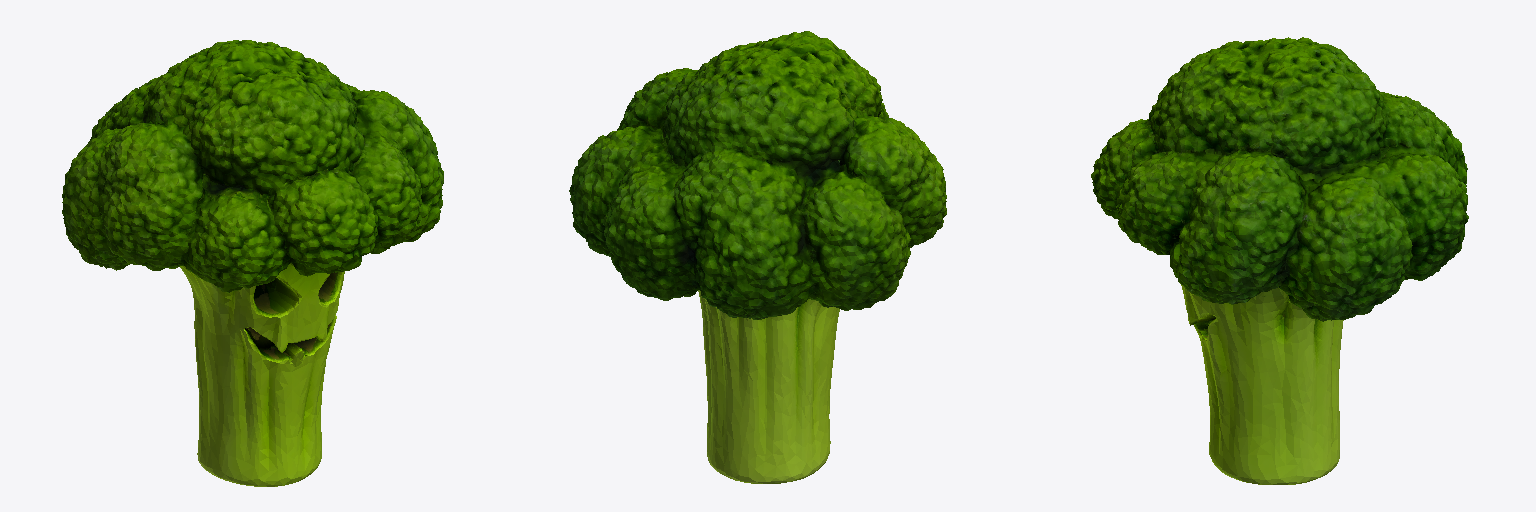
The picture shows the model from 3 angles: view 1: azimuth 30°, elevation 25°; view 2: azimuth 150°, elevation 25°; view 3: azimuth 270°, elevation 25°; orthographic projection.
Parts seen in each view (by area): view 1: Broccozilla_[number redacted]_texture; view 2: Broccozilla_[number redacted]_texture; view 3: Broccozilla_[number redacted]_texture.
Boxes of the visible parts, x1=… form: Broccozilla_[number redacted]_texture: x1=62, y1=40, x2=443, y2=486; Broccozilla_[number redacted]_texture: x1=569, y1=31, x2=946, y2=483; Broccozilla_[number redacted]_texture: x1=1091, y1=37, x2=1468, y2=484.
Size of the model in its own units: 1.57 by 1.92 by 1.59.
1 materials, 1 textured.